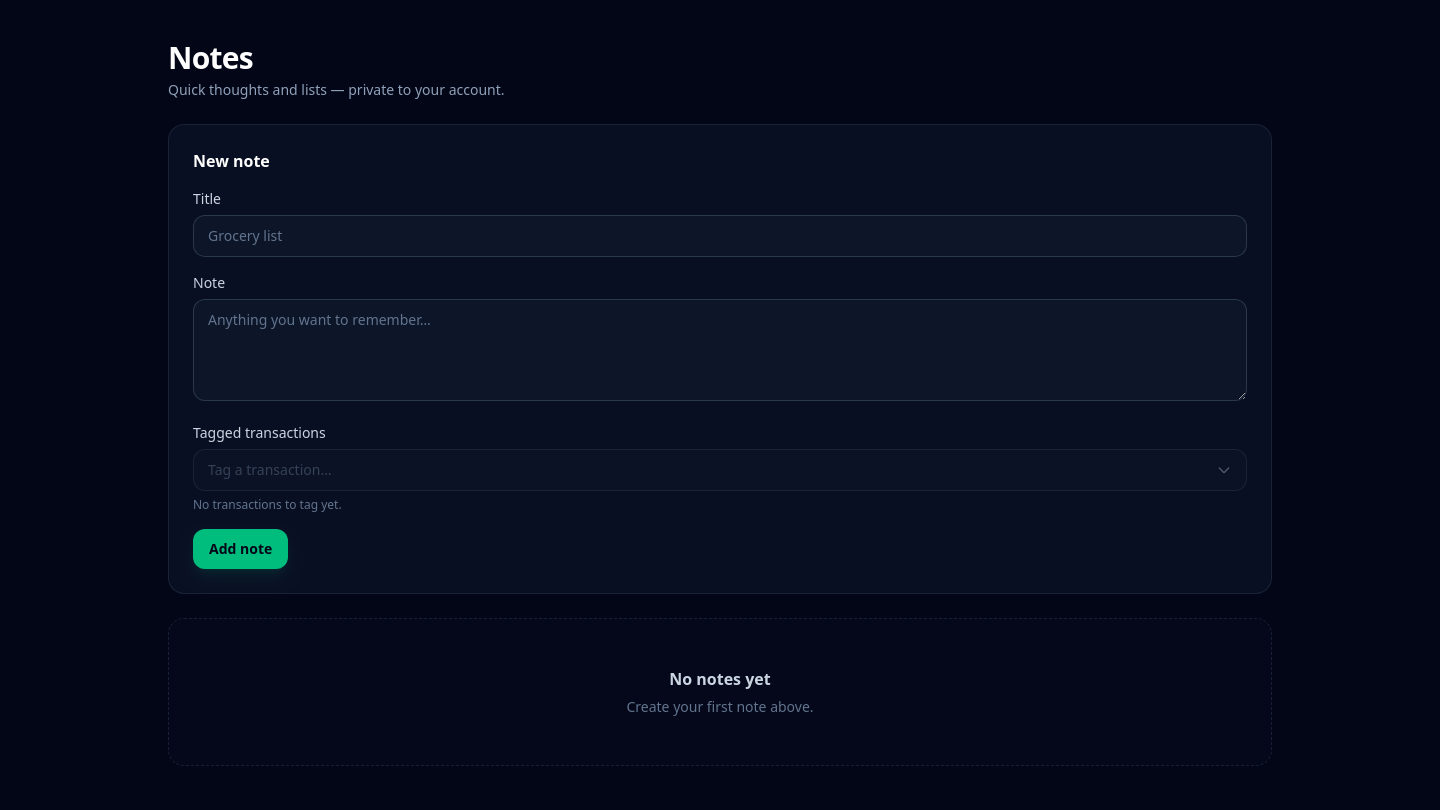
Test: NotesPage › validates on the client and never posts an empty title
Expected: the text "No notes yet" is shown, 669,668 -> 771,690
Click the button "Add note". click: (241, 549)
box: 193,529 -> 288,569
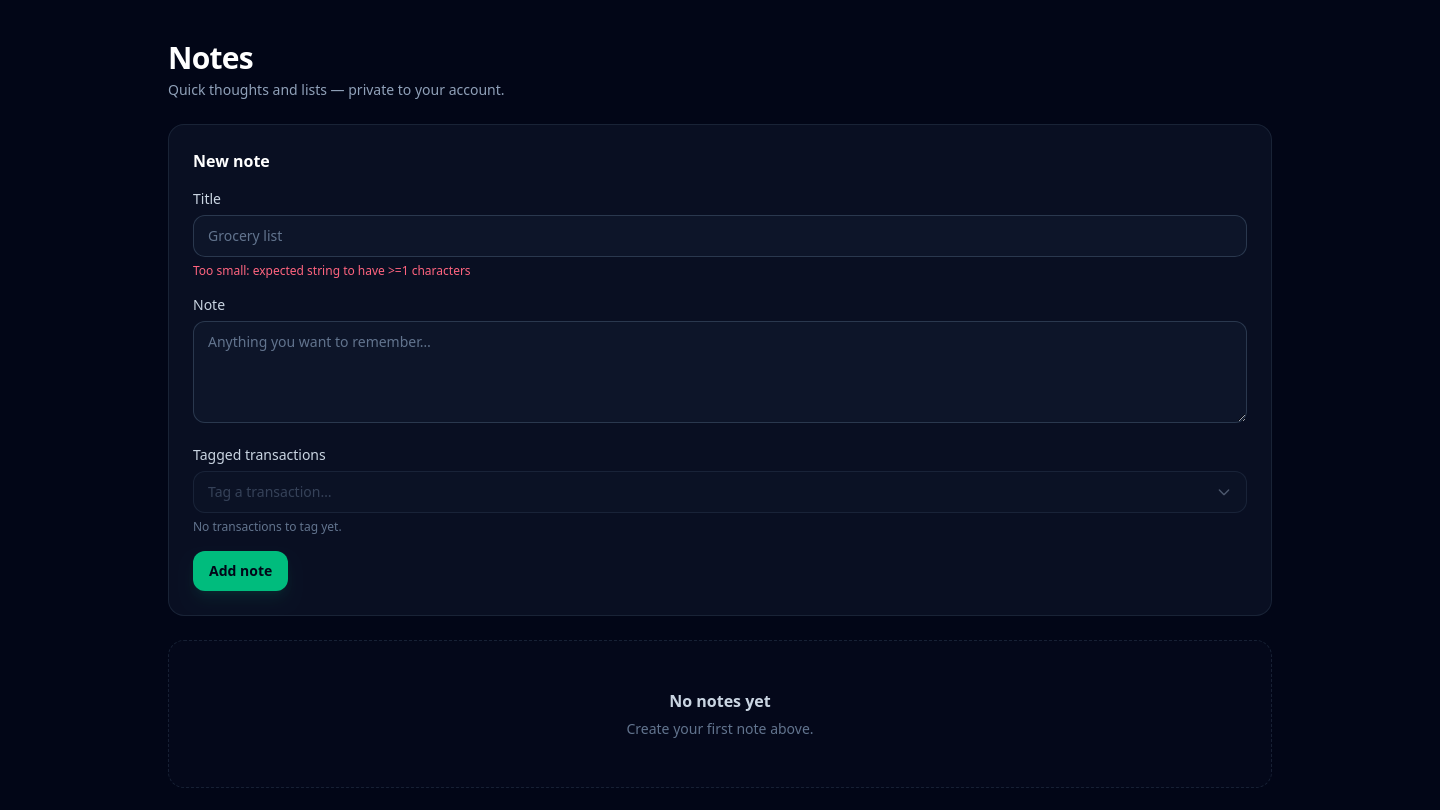
Expected: the message "Too small: expected string to have >=1 characters" is shown, 193,262 -> 471,279
